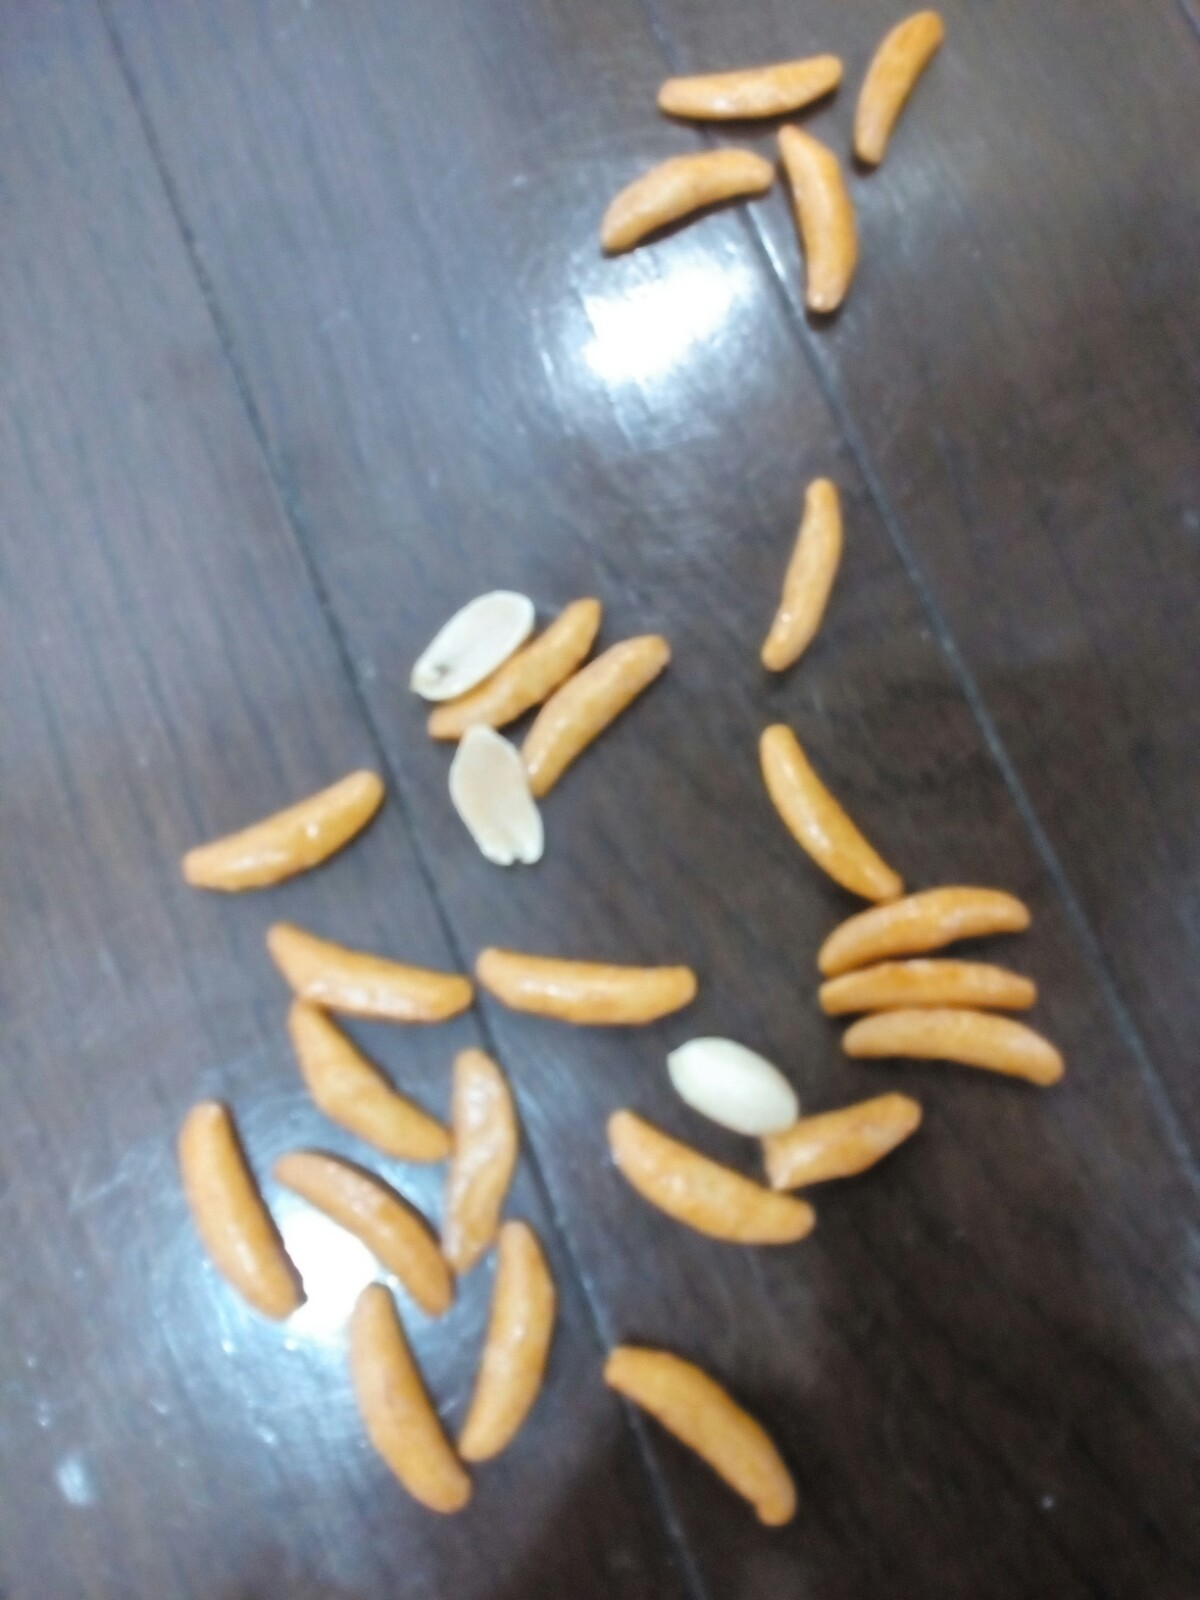peanut: (435, 712, 555, 872), (661, 1029, 811, 1141), (395, 582, 539, 697)
